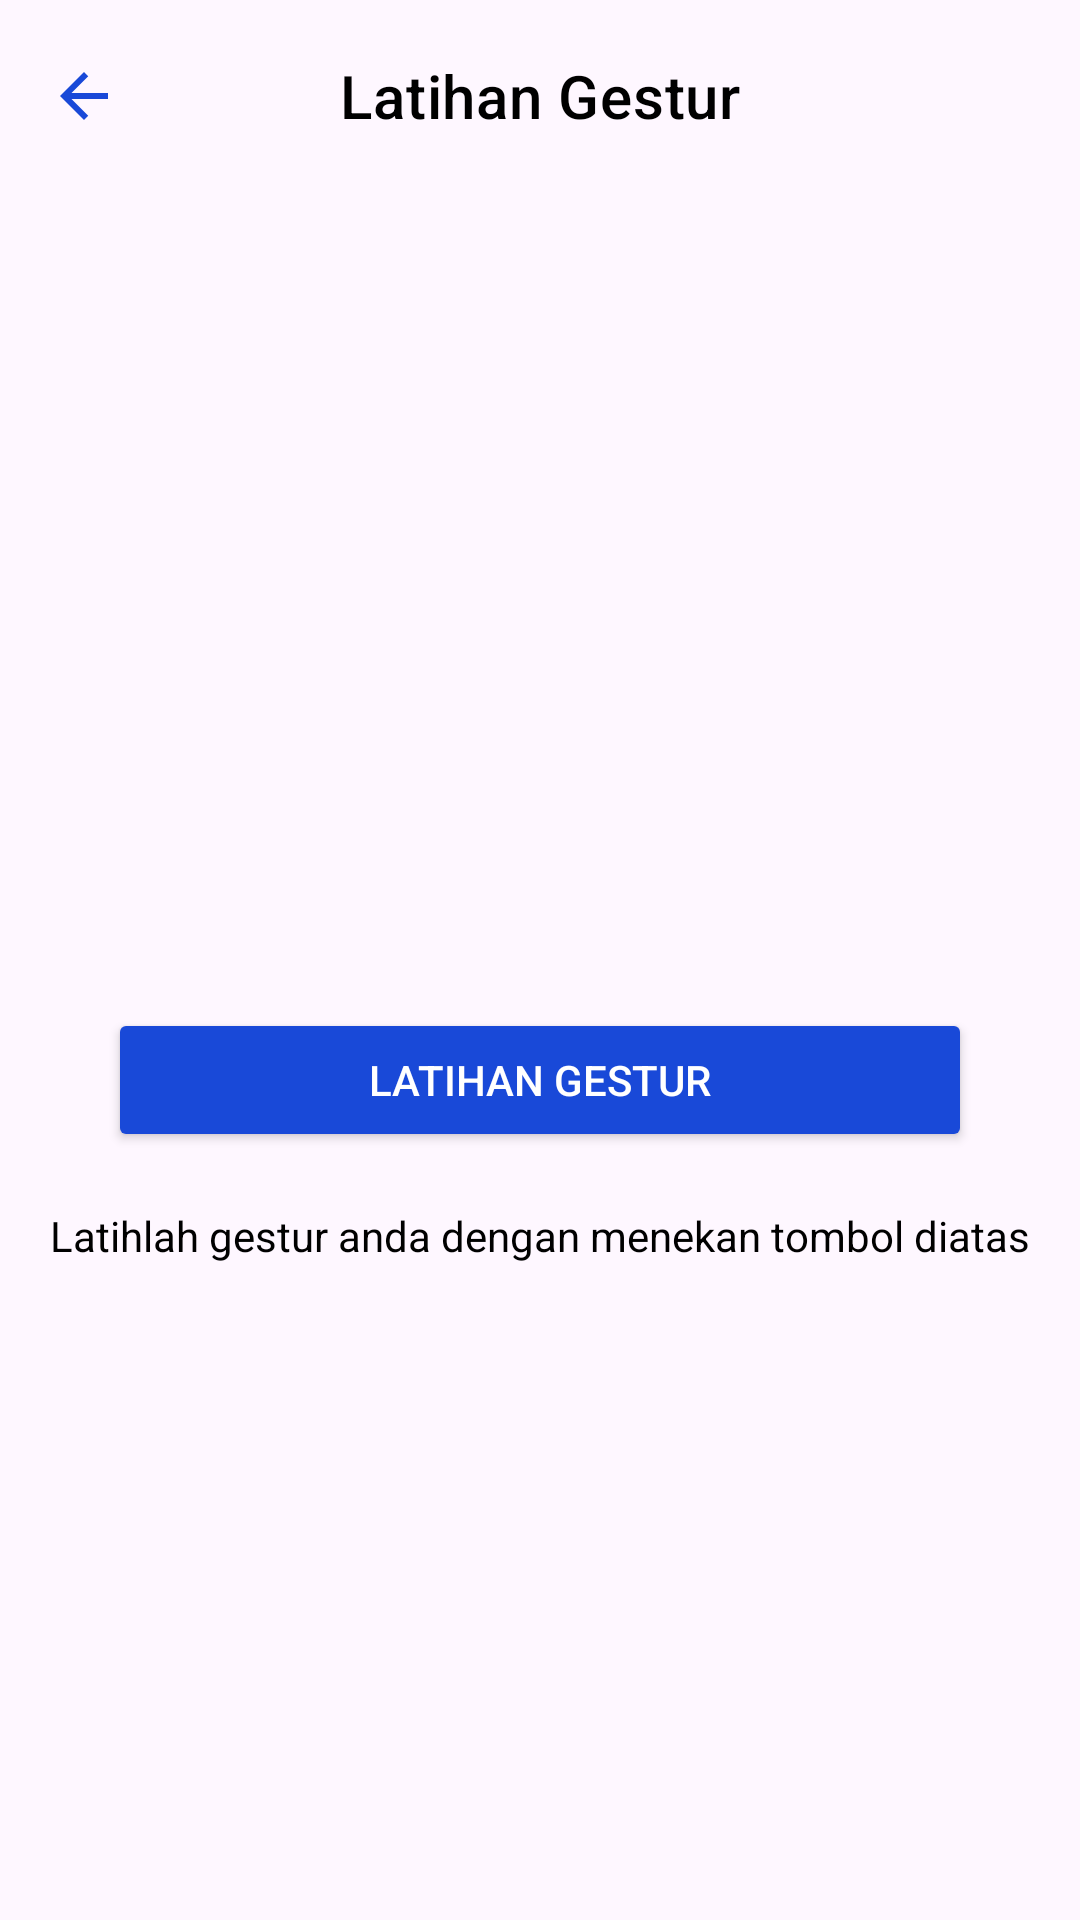

Point at icon controls on the screen. Image size 1080 × 1920, points as (x=x, y=y).
Back: (x=84, y=96)
